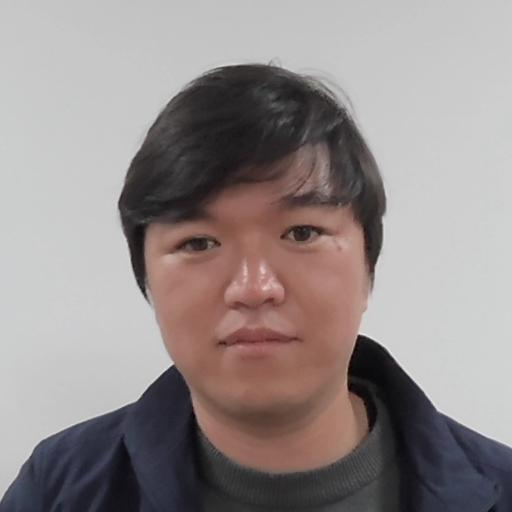no_glasses: (104, 55, 400, 425)
